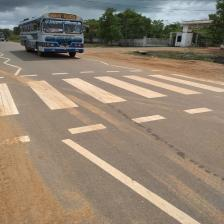crossing: (61, 138, 201, 223), (121, 74, 203, 96), (93, 75, 168, 99), (61, 77, 127, 104), (25, 80, 79, 110), (0, 82, 19, 116)
